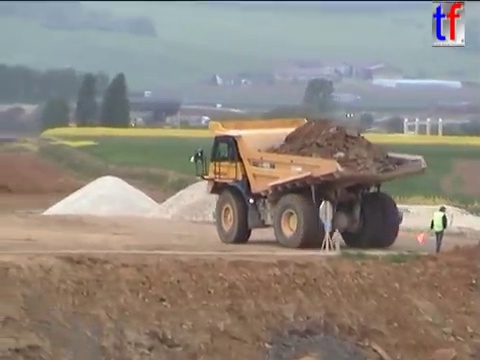truck: (188, 115, 429, 252)
worker: (426, 203, 451, 255)
